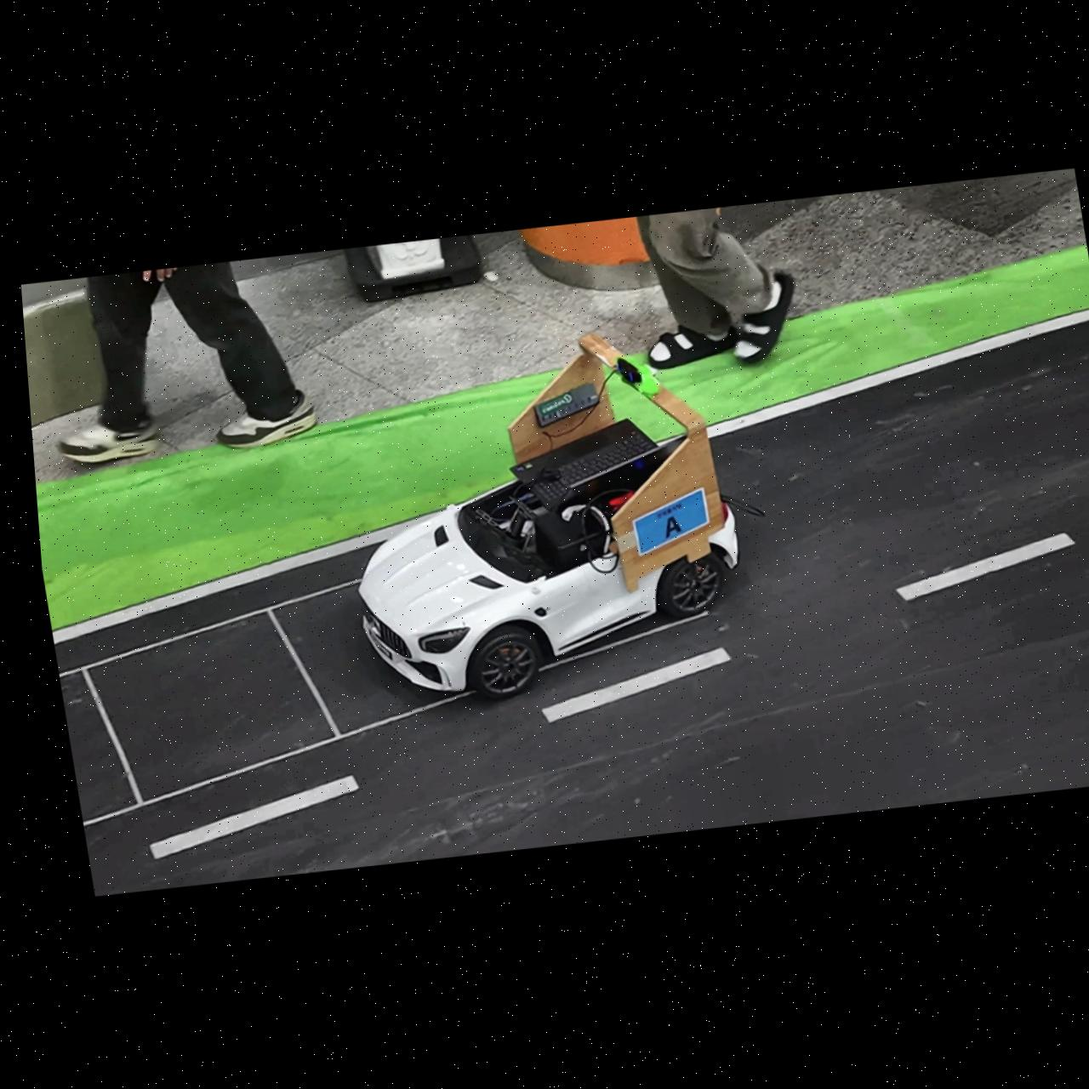broken_line: (149, 775, 360, 859), (541, 647, 731, 723), (897, 533, 1076, 600)
